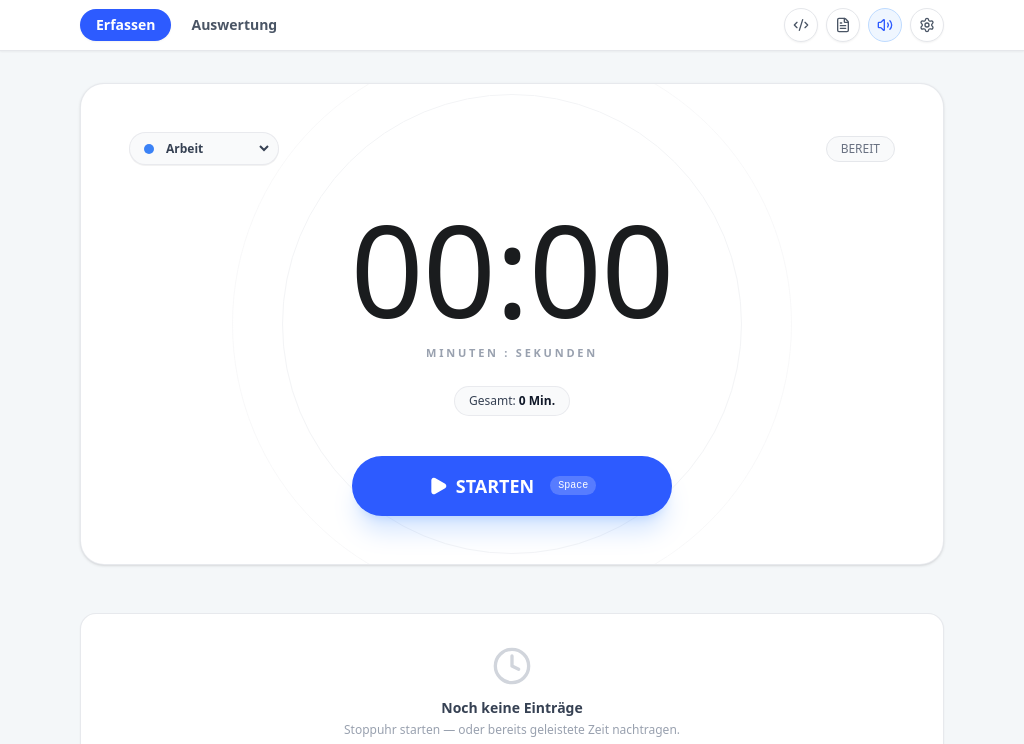
it: App persistence warnings › clears the warning once a write succeeds again
The width and height of the screenshot is (1024, 744).
Click the button titled "Signaltöne an" at [885, 25], box x1=868 y1=8 x2=902 y2=42
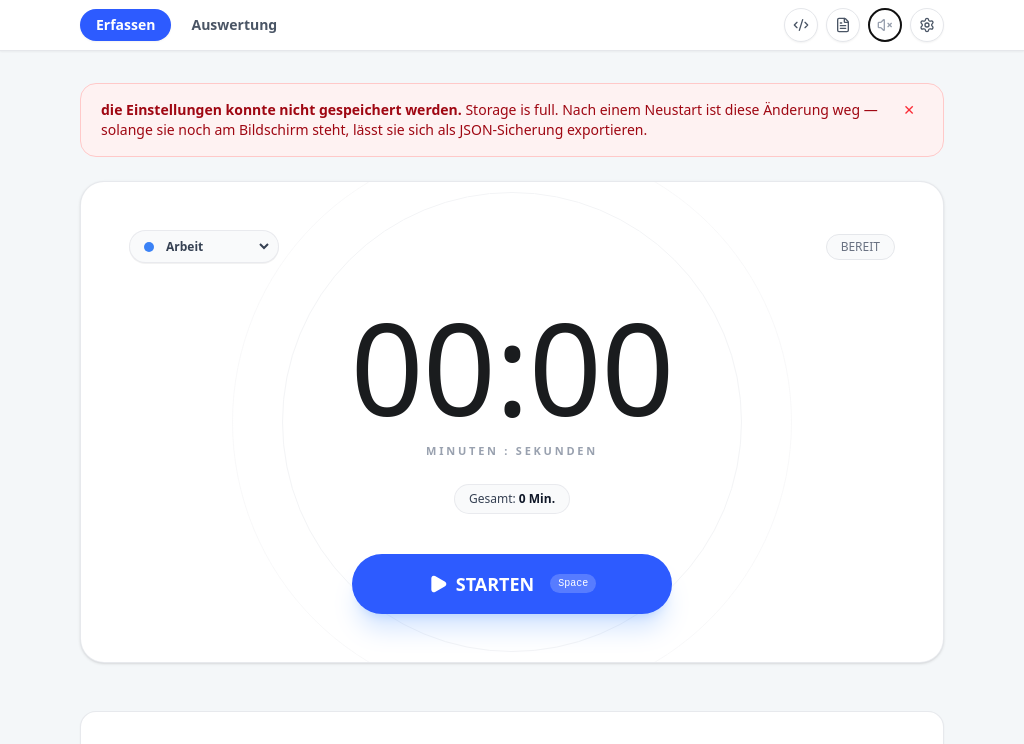
Result: the text "die Einstellungen konnte nicht gespeichert werden." is shown at x1=101 y1=100 x2=462 y2=119
Click the button titled "Signaltöne aus" at [885, 25], box x1=868 y1=8 x2=902 y2=42
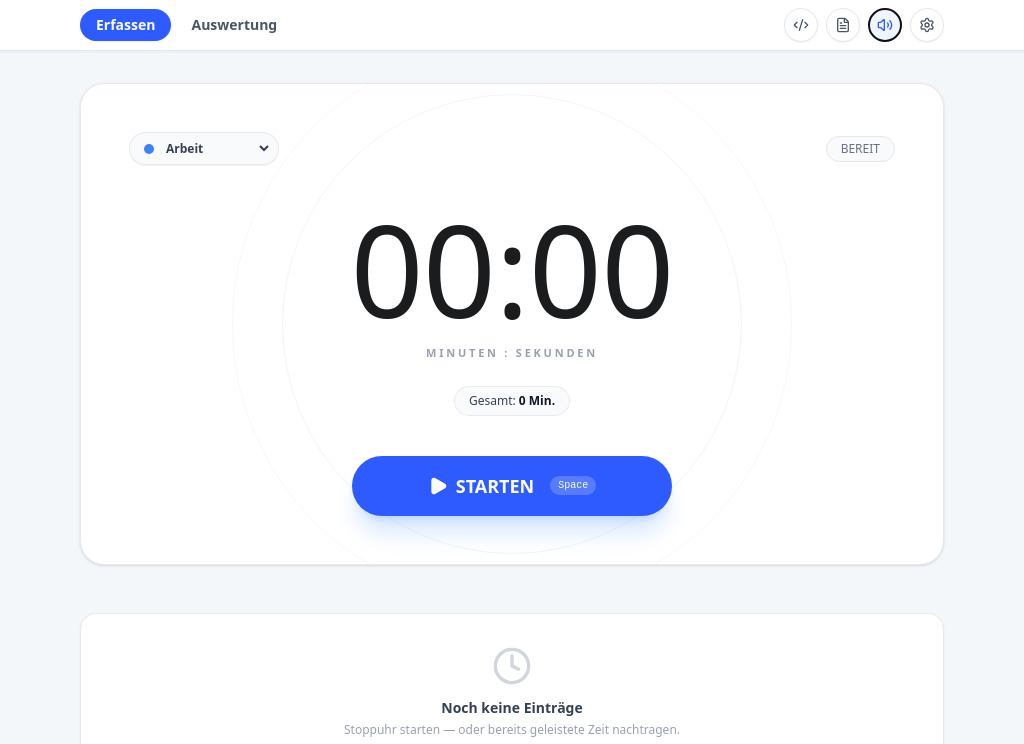
Result: the text "Einstellungen konnte nicht gespeichert werden" is gone
